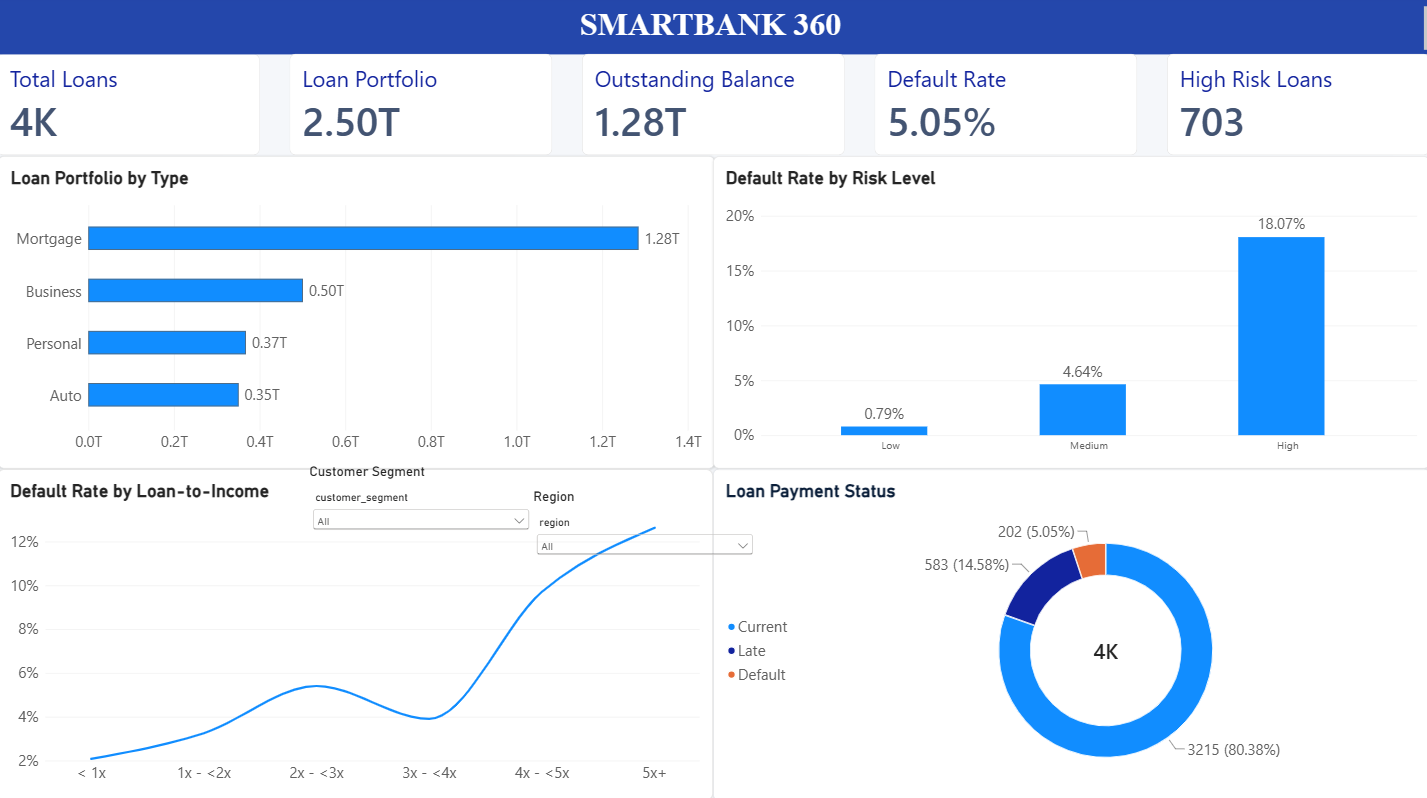

Layout of this report page (visuals, bound fields, positions):
{"tool":"powerbi","page":{"name":"Loan & Credit Risk","canvas":[1920,1080],"ordinal":3},"visuals":[{"type":"cardVisual","fields":{"Data":["KPI_Measures.Total Loans"]},"box":[0,79.5,352.3,136.4],"z":0},{"type":"shape","box":[0,0,1920.4,80],"z":1000},{"type":"textbox","box":[0,15,1920,63],"z":2000},{"type":"donutChart","title":"Loan Payment Status","fields":{"Category":["loans.payment_status"],"Y":["KPI_Measures.Total Loans"]},"box":[960.2,634.4,960.2,445.1],"z":3000},{"type":"cardVisual","fields":{"Data":["KPI_Measures.Loan Portfolio"]},"box":[392,79.5,352.3,136.4],"z":4000},{"type":"cardVisual","fields":{"Data":["KPI_Measures.Outstanding Balance"]},"box":[784.1,79.5,352.3,136.4],"z":5000},{"type":"cardVisual","fields":{"Data":["KPI_Measures.Default Rate"]},"box":[1176.1,79.5,352.3,136.4],"z":6000},{"type":"cardVisual","fields":{"Data":["KPI_Measures.High Risk Loans"]},"box":[1568.1,79.5,352.3,136.4],"z":7000},{"type":"clusteredBarChart","title":"Loan Portfolio by Type","fields":{"Category":["loans.loan_type"],"Y":["KPI_Measures.Loan Portfolio"]},"box":[1.9,215.9,960.2,418.5],"z":8000},{"type":"lineChart","title":"Default Rate by Loan-to-Income","fields":{"Category":["loans.LTI Group"],"Y":["KPI_Measures.Default Rate"]},"box":[0,634.4,960.2,445.1],"z":9000},{"type":"clusteredColumnChart","title":"Default Rate by Risk Level","fields":{"Category":["loans.risk_level"],"Y":["KPI_Measures.Default Rate"]},"box":[960.2,215.9,960.2,418.5],"z":10000},{"type":"slicer","title":"Customer Segment","fields":{"Values":["customers.customer_segment"]},"box":[418.5,628.8,299.2,90.9],"z":10001},{"type":"slicer","title":"Region","fields":{"Values":["branches.region"]},"box":[717.8,661,299.2,89],"z":10002}]}

Visuals, with their boxes in screenshot pixels (x1, y1, x2, y2), scaled from the page's 1920x1080 canvas onto the 1427x798 screenshot:
cardVisual - KPI_Measures.Total Loans: {"x1": 0, "y1": 59, "x2": 262, "y2": 160}
shape: {"x1": 0, "y1": 0, "x2": 1426, "y2": 59}
textbox: {"x1": 0, "y1": 11, "x2": 1426, "y2": 58}
"Loan Payment Status" donutChart: {"x1": 714, "y1": 469, "x2": 1426, "y2": 797}
cardVisual - KPI_Measures.Loan Portfolio: {"x1": 291, "y1": 59, "x2": 553, "y2": 160}
cardVisual - KPI_Measures.Outstanding Balance: {"x1": 583, "y1": 59, "x2": 845, "y2": 160}
cardVisual - KPI_Measures.Default Rate: {"x1": 874, "y1": 59, "x2": 1136, "y2": 160}
cardVisual - KPI_Measures.High Risk Loans: {"x1": 1165, "y1": 59, "x2": 1426, "y2": 160}
"Loan Portfolio by Type" clusteredBarChart: {"x1": 1, "y1": 160, "x2": 715, "y2": 469}
"Default Rate by Loan-to-Income" lineChart: {"x1": 0, "y1": 469, "x2": 714, "y2": 797}
"Default Rate by Risk Level" clusteredColumnChart: {"x1": 714, "y1": 160, "x2": 1426, "y2": 469}
"Customer Segment" slicer: {"x1": 311, "y1": 465, "x2": 533, "y2": 532}
"Region" slicer: {"x1": 533, "y1": 488, "x2": 756, "y2": 554}
